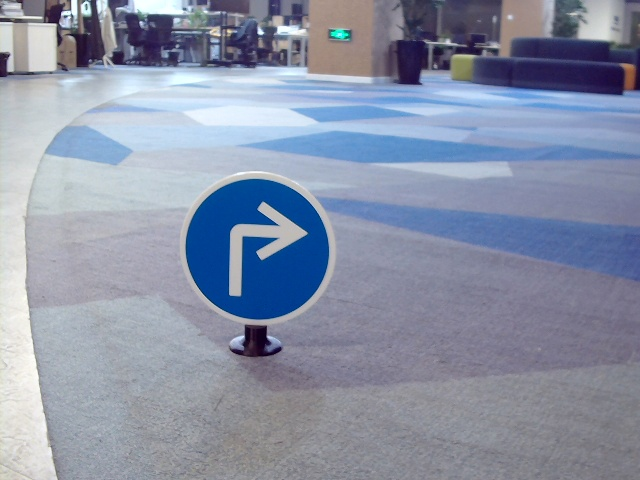turn_right: (212, 198, 312, 294)
